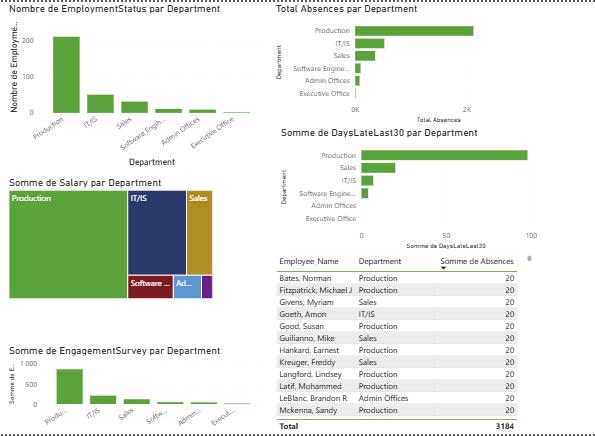

The dashboard page shown, as its layout file describes it:
{"tool":"powerbi","page":{"name":"Page 3","canvas":[1280,720],"ordinal":2},"visuals":[{"type":"columnChart","fields":{"Category":["HRDataset.Department"],"Y":["CountNonNull(HRDataset.EmploymentStatus)"]},"box":[9.6,0,435.6,279.8],"z":0},{"type":"treemap","fields":{"Group":["HRDataset.Department"],"Values":["Sum(HRDataset.Salary)"]},"box":[9.6,290.4,349,209.6],"z":1000},{"type":"columnChart","fields":{"Category":["HRDataset.Department"],"Y":["Sum(HRDataset.EngagementSurvey)"]},"box":[10,570,436,150],"z":2000},{"type":"barChart","fields":{"Y":["HRDataset.Total Absences"],"Category":["HRDataset.Department"]},"box":[455.8,0,427.9,206.7],"z":3000},{"type":"barChart","fields":{"Category":["HRDataset.Department"],"Y":["Sum(HRDataset.DaysLateLast30)"]},"box":[463.5,206.7,436.5,209.6],"z":4000},{"type":"tableEx","fields":{"Values":["HRDataset.Employee_Name","HRDataset.Department","Sum(HRDataset.Absences)"]},"box":[455.8,416.3,436.5,303.8],"z":5000}]}

Visuals, with their boxes on the page's 1280x720 design canvas (x1, y1, x2, y2). These are canvas units, not pixel positions in the 595x436 screenshot, which may show the page scaled, cropped or inside an application window:
columnChart - HRDataset.Department x CountNonNull(HRDataset.EmploymentStatus): detection(10, 0, 445, 280)
treemap - HRDataset.Department x Sum(HRDataset.Salary): detection(10, 290, 359, 500)
columnChart - HRDataset.Department x Sum(HRDataset.EngagementSurvey): detection(10, 570, 446, 720)
barChart - HRDataset.Total Absences x HRDataset.Department: detection(456, 0, 884, 207)
barChart - HRDataset.Department x Sum(HRDataset.DaysLateLast30): detection(464, 207, 900, 416)
tableEx - HRDataset.Employee_Name x HRDataset.Department: detection(456, 416, 892, 720)
